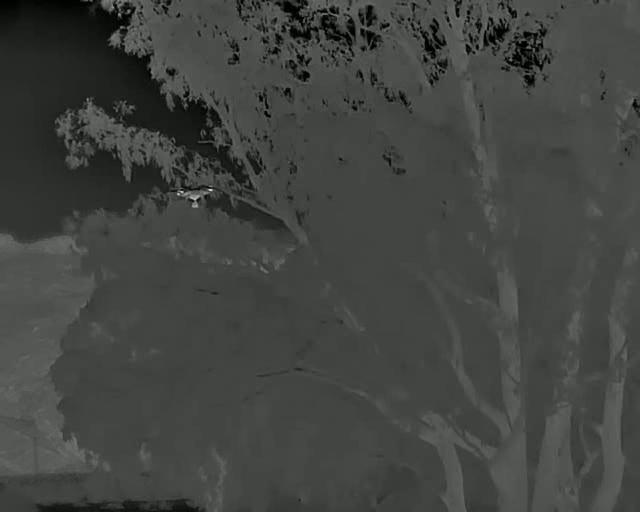DJI-Phantom: (175, 186, 216, 209)
